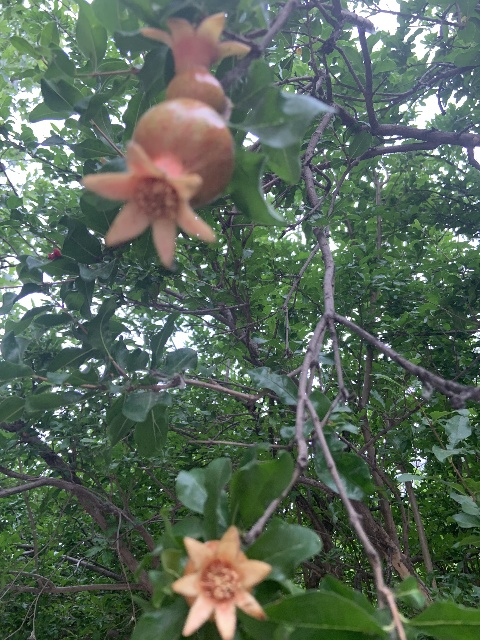early-fruit: (82, 99, 235, 270), (170, 524, 272, 640), (139, 11, 250, 113)
